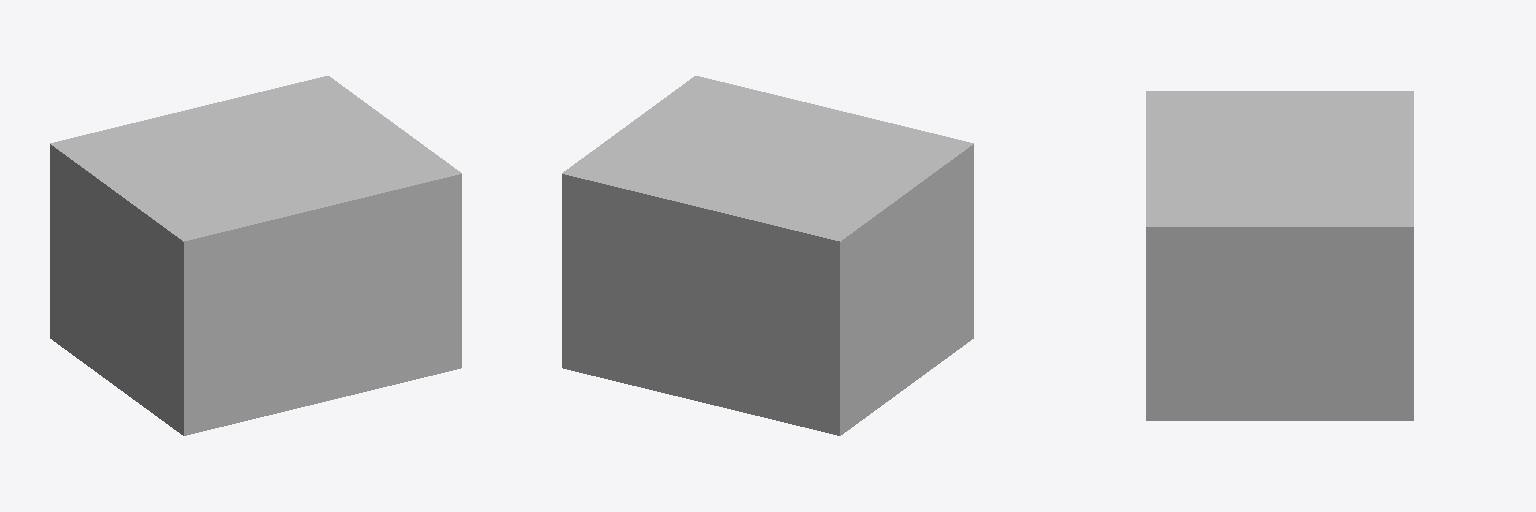
Rendered from eval-caustic.obj.
The picture shows the model from 3 angles: view 1: azimuth 30°, elevation 25°; view 2: azimuth 150°, elevation 25°; view 3: azimuth 270°, elevation 25°; orthographic projection.
Visible parts, largest first — view 1: WallFront, Ceiling, Walls; view 2: Walls, Ceiling; view 3: Walls, Ceiling.
Boxes of the visible parts, <box> form: WallFront: <box>184,174,461,435</box>; Ceiling: <box>50,76,461,241</box>; Walls: <box>50,144,183,435</box>; Walls: <box>562,144,973,435</box>; Ceiling: <box>562,76,973,241</box>; Walls: <box>1146,227,1413,420</box>; Ceiling: <box>1146,91,1413,226</box>.
Bounding box in the file's own units: 3 × 2 × 2.5.